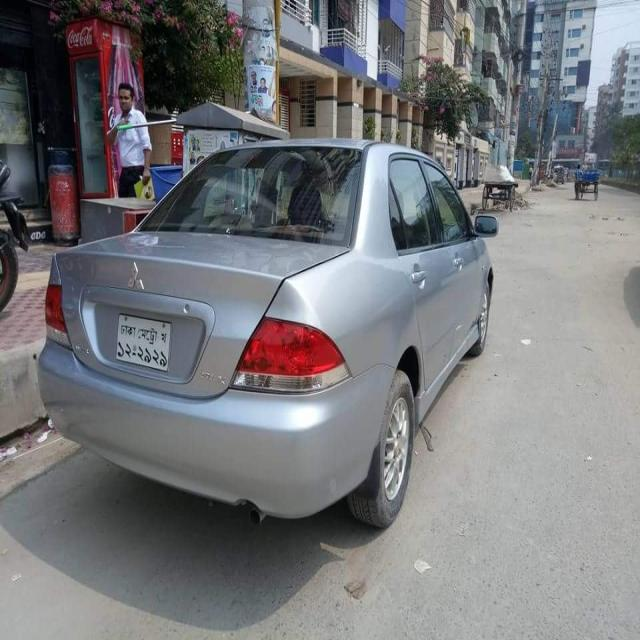numberplate: (114, 312, 171, 372)
